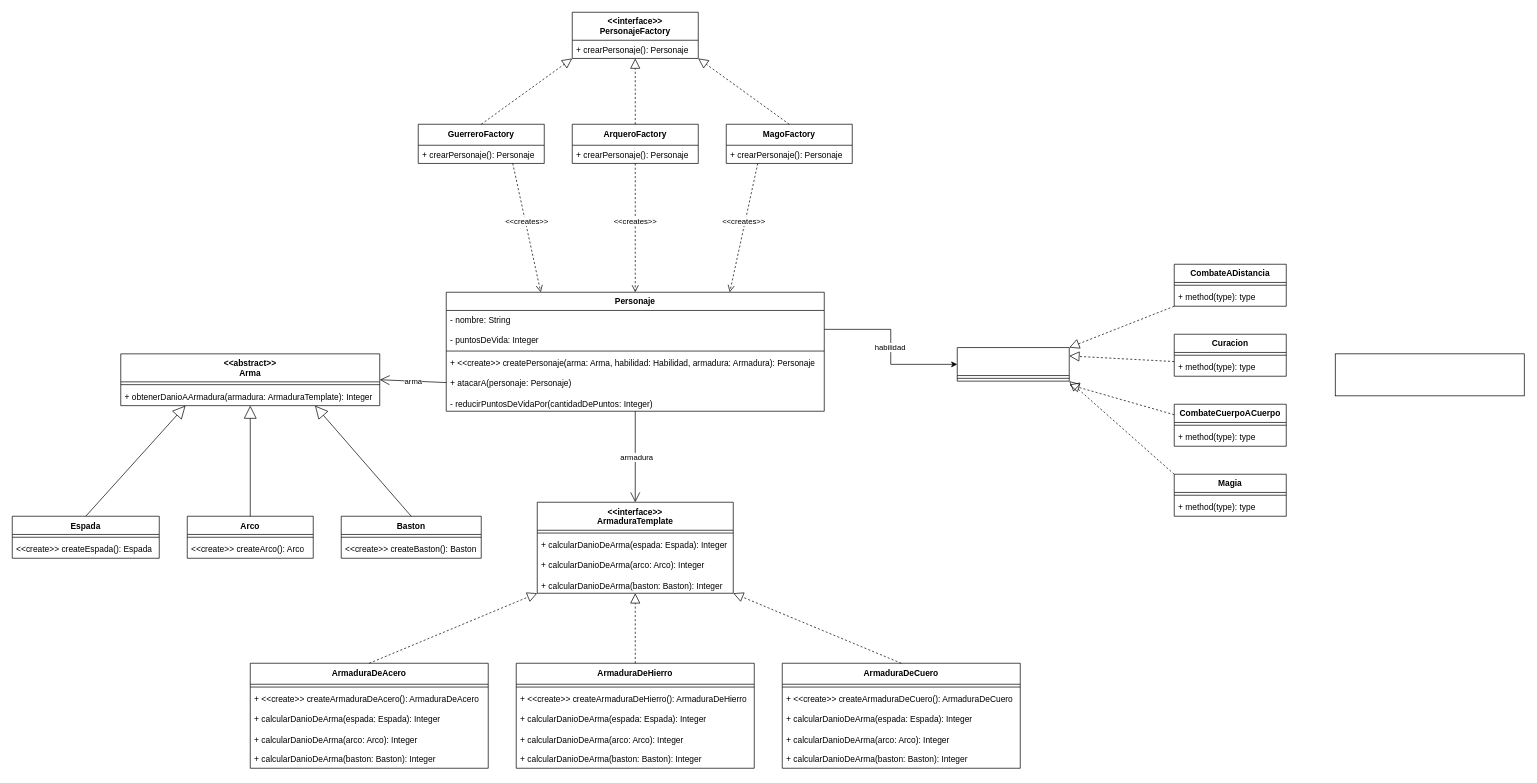
Some shapes in this 1537 by 783 pixel diagram are drawn without their labels. Each missing label, with the centre of its shape:
"<<interface>> Habilidad" belongs at (x=1013, y=364).
"Preguntar: estoy haciendo algo mal con la habilidad? Porque queda vacía" belongs at (x=1429, y=374).
